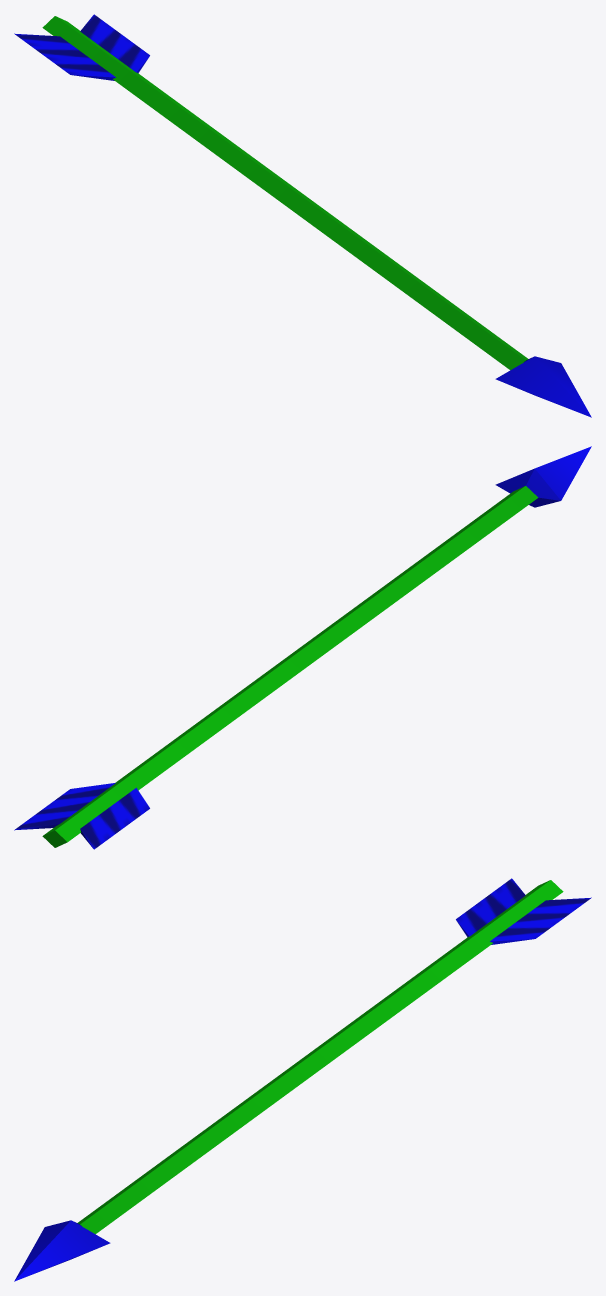
Rendered from ArrowBasic.fbx.
3 renders of one model, top to bottom at view 1: azimuth 30°, elevation 25°; view 2: azimuth 150°, elevation 25°; view 3: azimuth 330°, elevation 25°, orthographic.
Visible parts, largest first — view 1: ArrowBasic; view 2: ArrowBasic; view 3: ArrowBasic.
Boxes of the visible parts, x1,y1,x2,y2 form: ArrowBasic: [14, 14, 591, 417]; ArrowBasic: [14, 446, 591, 849]; ArrowBasic: [14, 878, 591, 1281].
Size of the model in its own units: 6.69 by 3.14 by 77.88.
